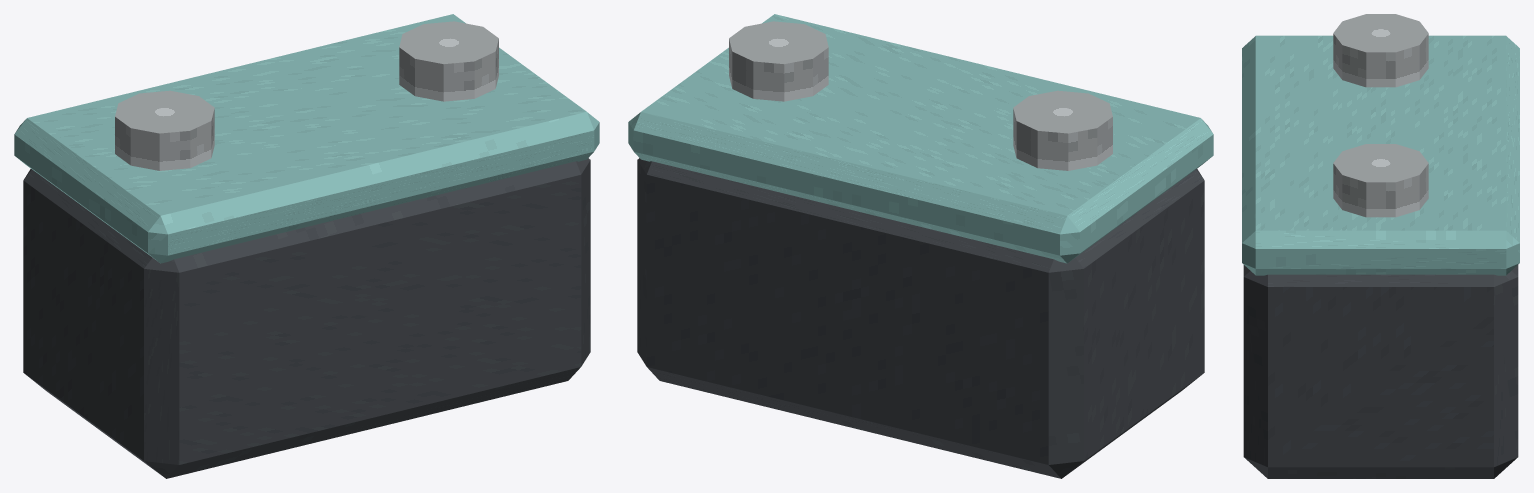
File: battery_motorbike_small.glb
3 views of the same model, side by side, from view 1: azimuth 30°, elevation 25°; view 2: azimuth 150°, elevation 25°; view 3: azimuth 270°, elevation 25° (orthographic). The views are drawn at different scales.
Visible parts, largest first — view 1: block_rectangular power cell, block_terminal cover, block_terminal (×2); view 2: block_rectangular power cell, block_terminal cover, block_terminal (×2); view 3: block_rectangular power cell, block_terminal cover, block_terminal (×2).
Boxes of the visible parts, bbox=[...] form: block_rectangular power cell: bbox=[23, 158, 590, 478]; block_terminal cover: bbox=[14, 14, 599, 263]; block_terminal (×2): bbox=[115, 21, 498, 170]; block_rectangular power cell: bbox=[637, 158, 1204, 478]; block_terminal cover: bbox=[628, 14, 1213, 263]; block_terminal (×2): bbox=[729, 21, 1112, 170]; block_rectangular power cell: bbox=[1243, 265, 1518, 478]; block_terminal cover: bbox=[1242, 35, 1519, 275]; block_terminal (×2): bbox=[1333, 14, 1428, 217].
Bounding box in the file's own units: 0.2344 × 0.1529 × 0.1333.
Materials: 1 (1 with a texture image).
